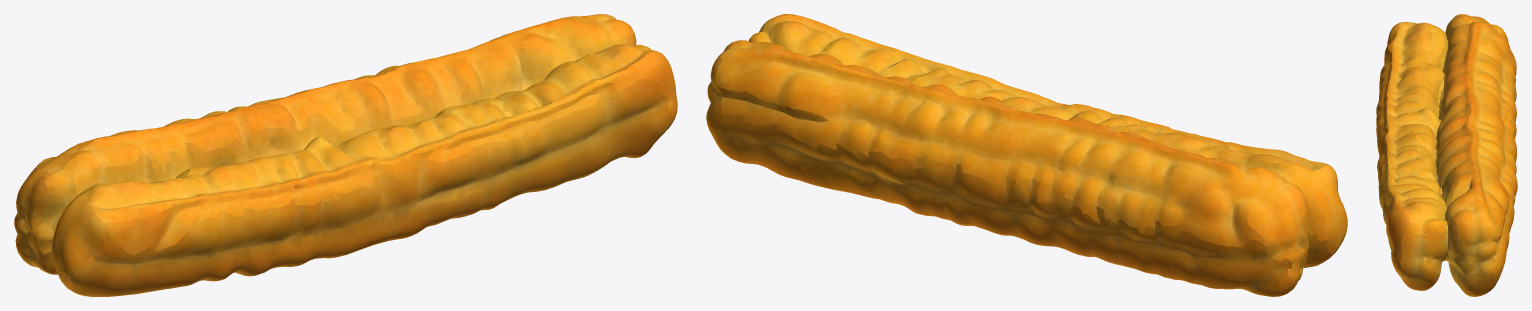
File: youtiao.glb
3 views of the same model, side by side, from view 1: azimuth 30°, elevation 25°; view 2: azimuth 150°, elevation 25°; view 3: azimuth 270°, elevation 25° (orthographic). The views are drawn at different scales.
Parts seen in each view (by area): view 1: world; view 2: world; view 3: world.
Boxes of the visible parts, x1=… form: world: x1=14, y1=14, x2=677, y2=296; world: x1=706, y1=14, x2=1347, y2=296; world: x1=1376, y1=14, x2=1517, y2=296.
Bounding box in the file's own units: 0.22 × 0.0467 × 0.0589.
1 material, 1 textured.
